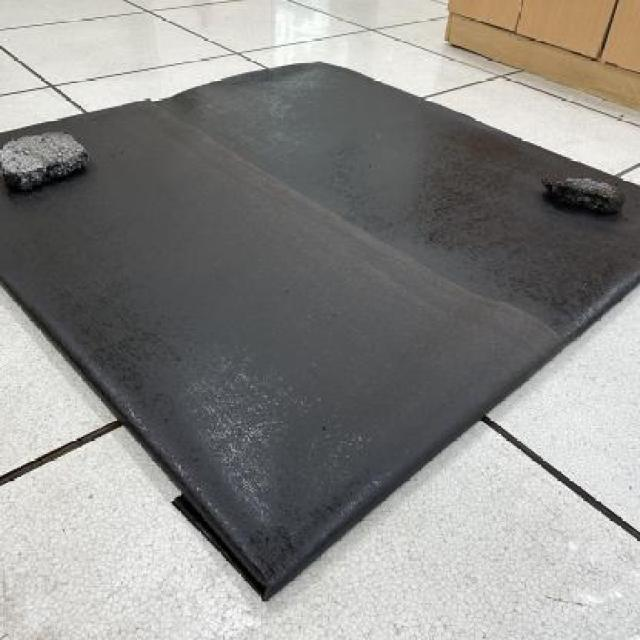Road Debris: (24, 136, 94, 162), (566, 181, 622, 202)
